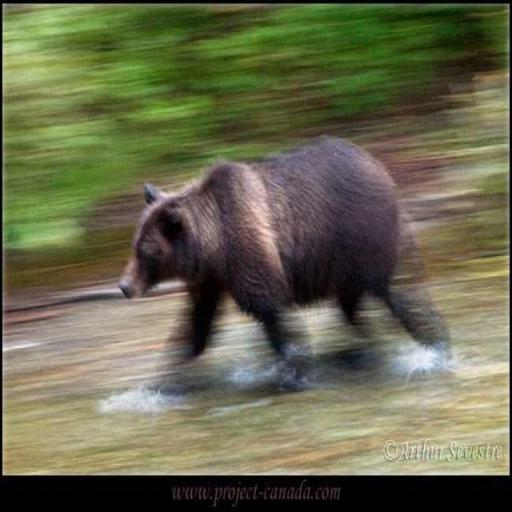Bear: (116, 133, 454, 376)
